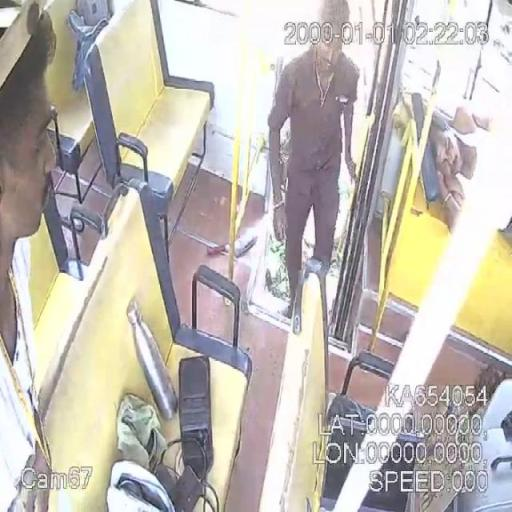persona: (0, 1, 62, 511), (266, 1, 362, 319), (423, 93, 512, 250)
